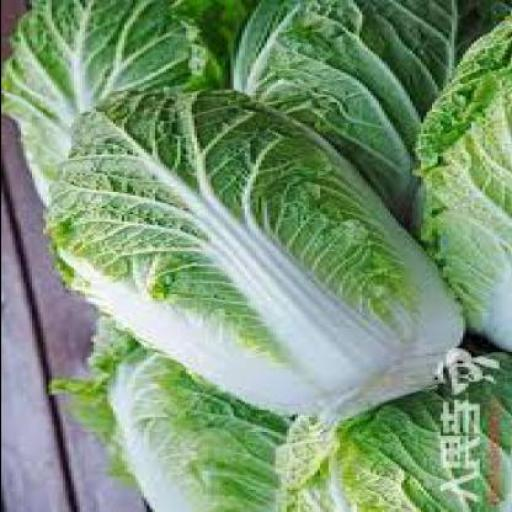biodegradable: (36, 85, 470, 413), (224, 0, 509, 231), (39, 315, 288, 510), (1, 0, 233, 207), (274, 348, 510, 510), (405, 11, 509, 352)
